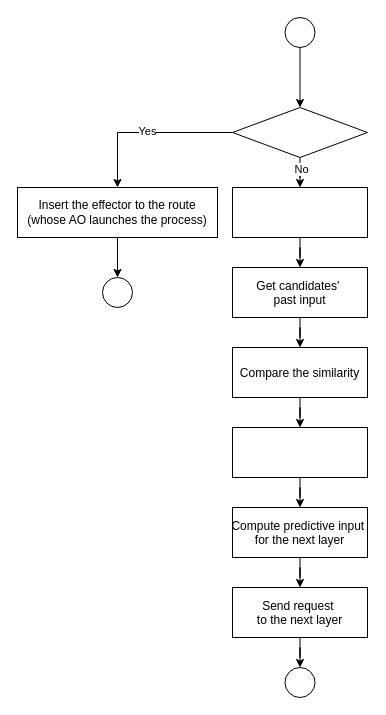
Some shapes in this 386 by 715 pixel diagram are drawn without their labels. Each missing label, with the box of its shape:
Get sample input: (232, 186, 368, 238)
If candidate layer is effector layer?: (232, 106, 368, 158)
Insert selected modulars to the route: (232, 426, 368, 478)
